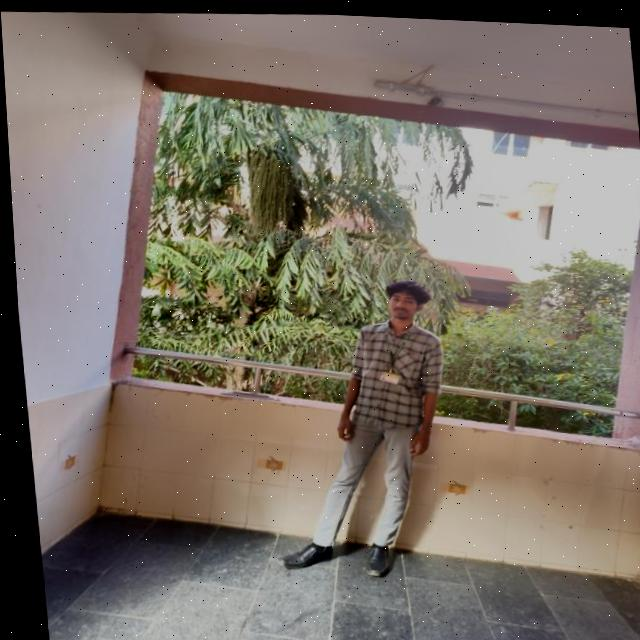id_card: (370, 318, 398, 384)
